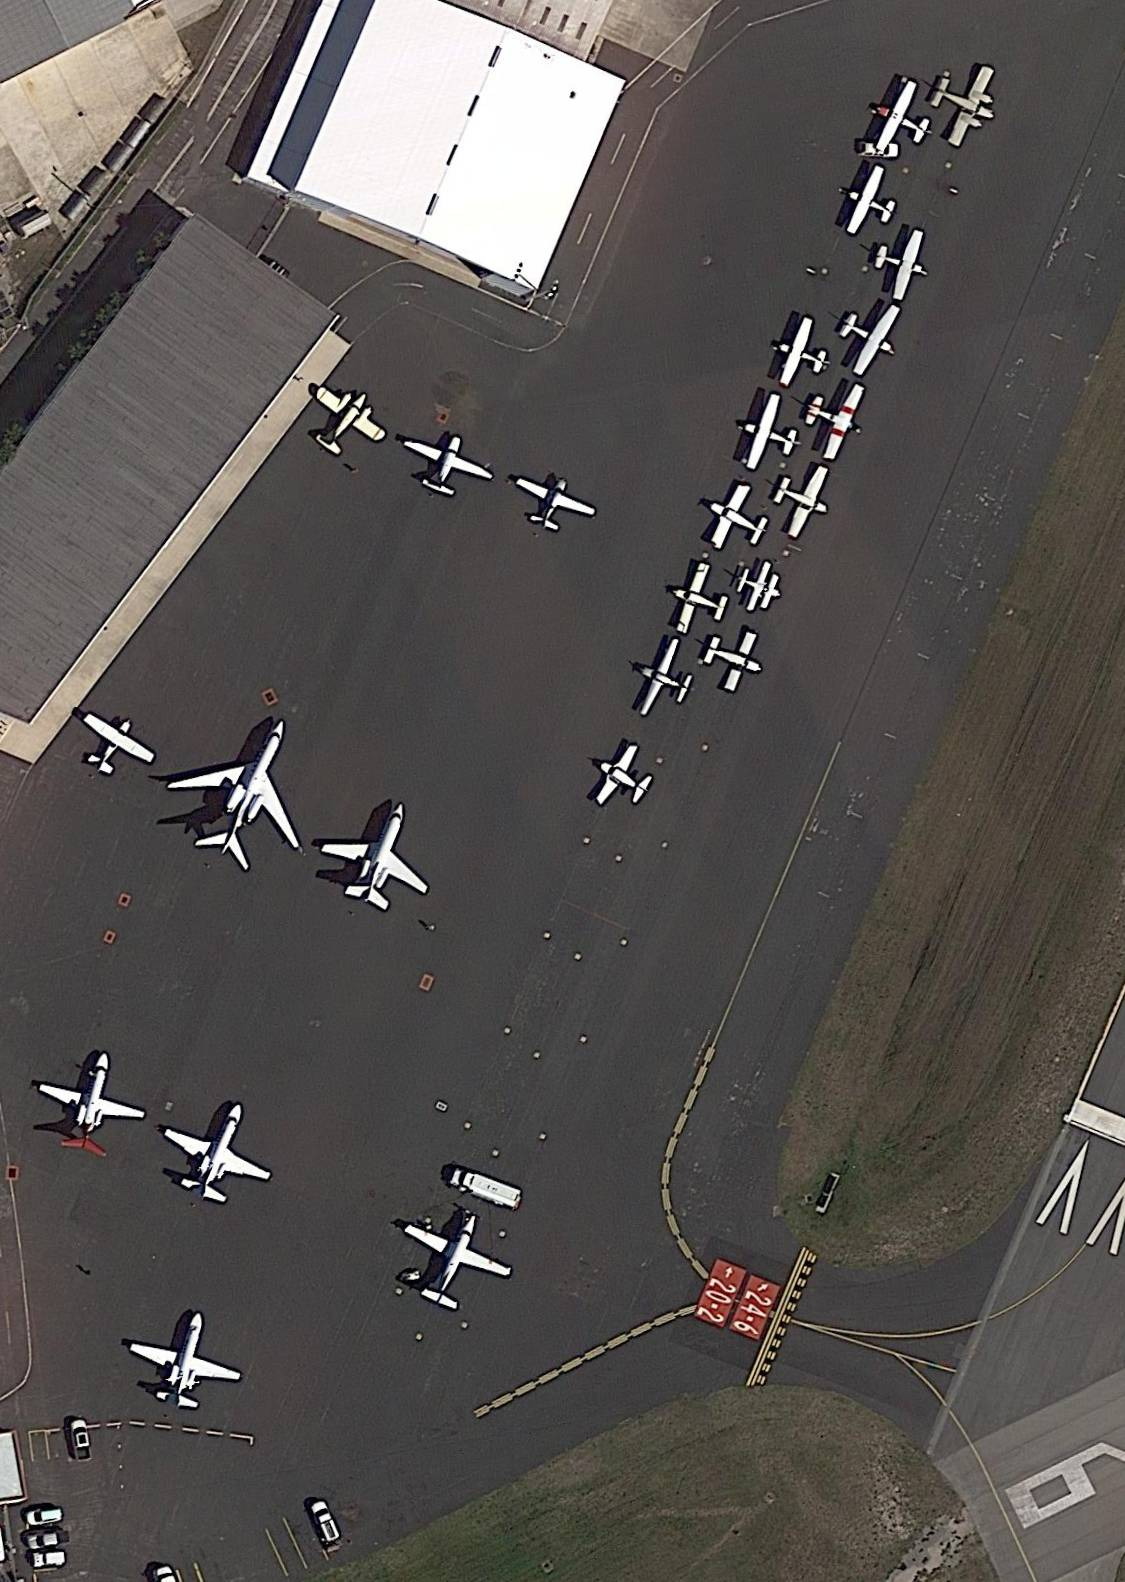large vehicle: (446, 1162, 527, 1216)
plane: (145, 688, 351, 887), (305, 781, 457, 926), (145, 1080, 289, 1217), (380, 1192, 526, 1327), (116, 1296, 256, 1420), (27, 1036, 157, 1164), (292, 372, 397, 473), (913, 52, 1011, 155), (391, 421, 502, 508), (63, 697, 165, 789), (859, 73, 949, 169), (823, 290, 913, 383), (792, 370, 875, 468), (503, 463, 601, 545), (761, 453, 845, 548), (626, 632, 704, 728), (734, 388, 812, 480), (696, 476, 778, 562), (583, 738, 666, 821), (767, 312, 842, 398), (835, 160, 909, 247), (864, 218, 936, 307), (695, 621, 773, 702), (663, 558, 737, 642), (728, 553, 791, 621)
small vehicle: (310, 1498, 343, 1546), (25, 1529, 71, 1554), (70, 1418, 93, 1463), (27, 1506, 64, 1527), (33, 1552, 66, 1572)
